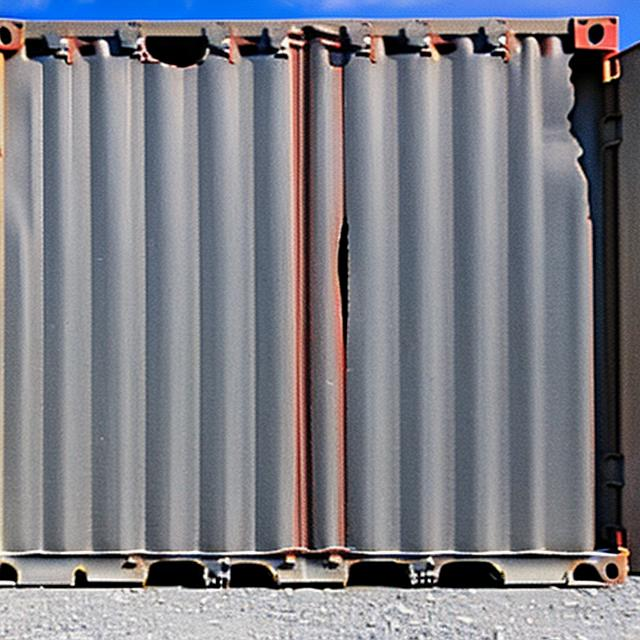hole: (137, 29, 220, 72), (331, 209, 361, 321)
